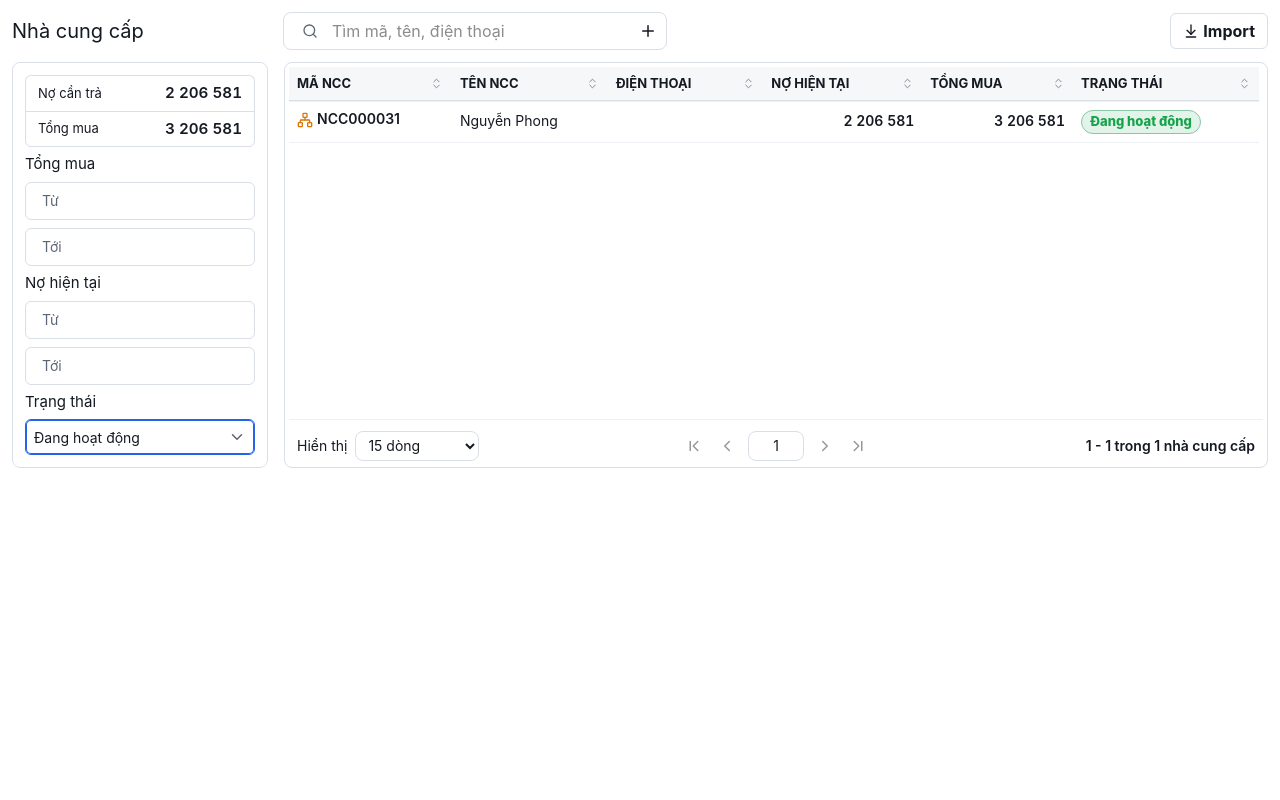
Test: renders supplier debt ledger rows from backend when available
Click the button "NCC000031" at [348, 120], box [297,110,400,129]
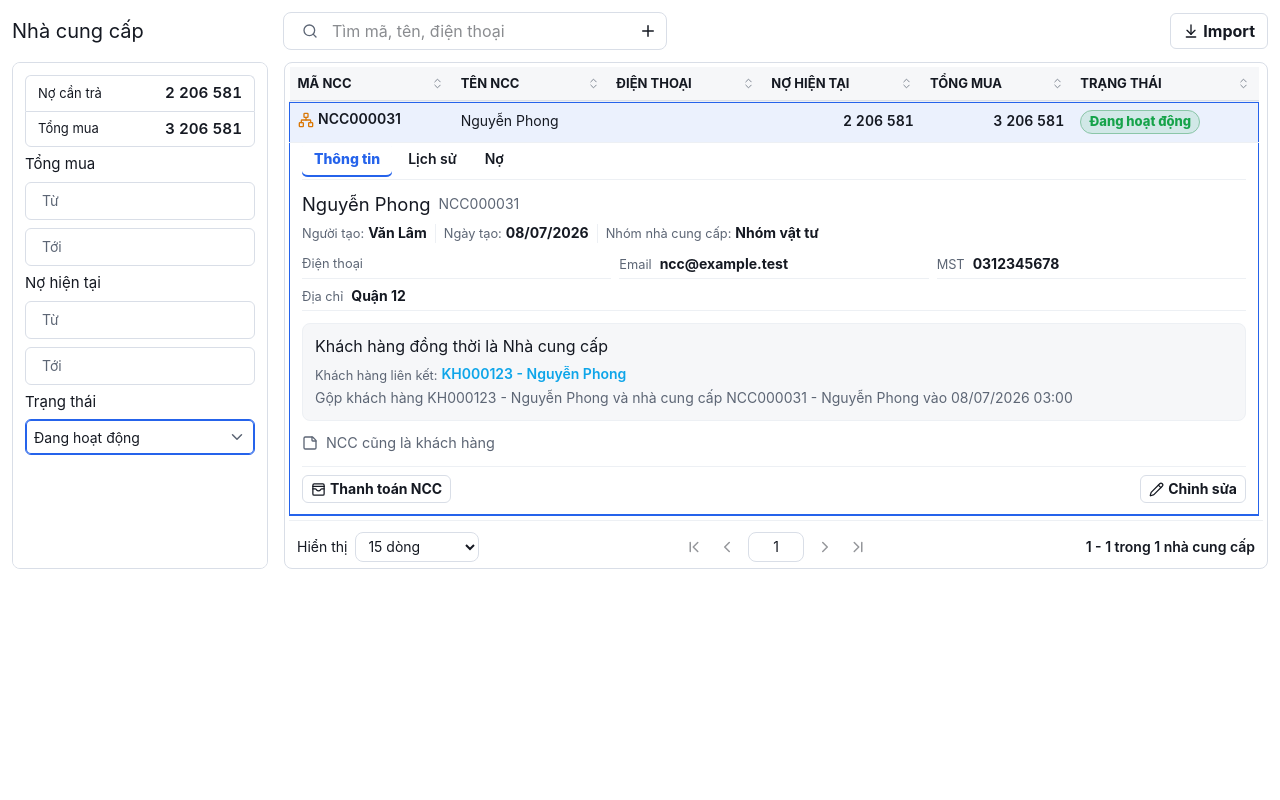
Click the tab "Nợ" at [494, 160], box [473,142,516,178]
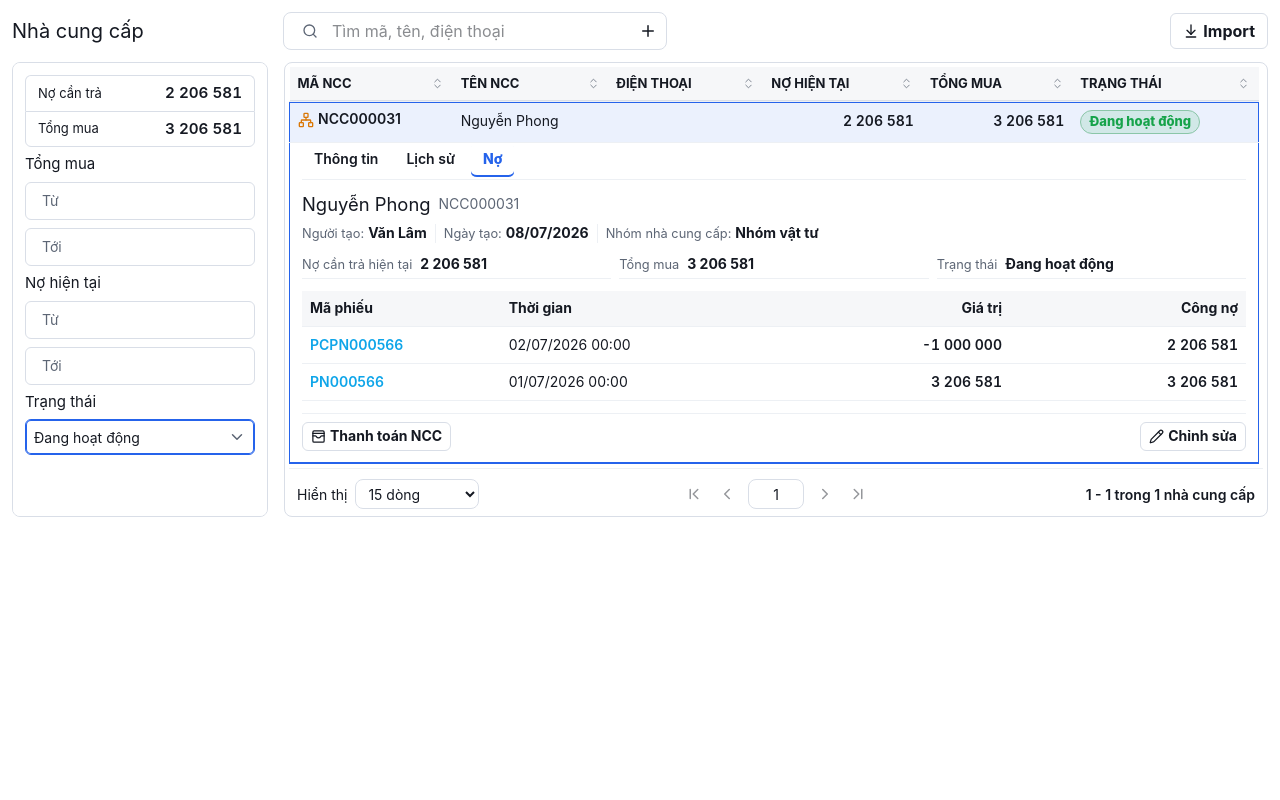
Expected: the row "PN000566 01/07/2026 00:00 3 206 581 3 206 581" is shown, [302,364,1246,401]
Expected: the row "PCPN000566 02/07/2026 00:00 -1 000 000 2 206 581" is shown, [302,327,1246,364]
